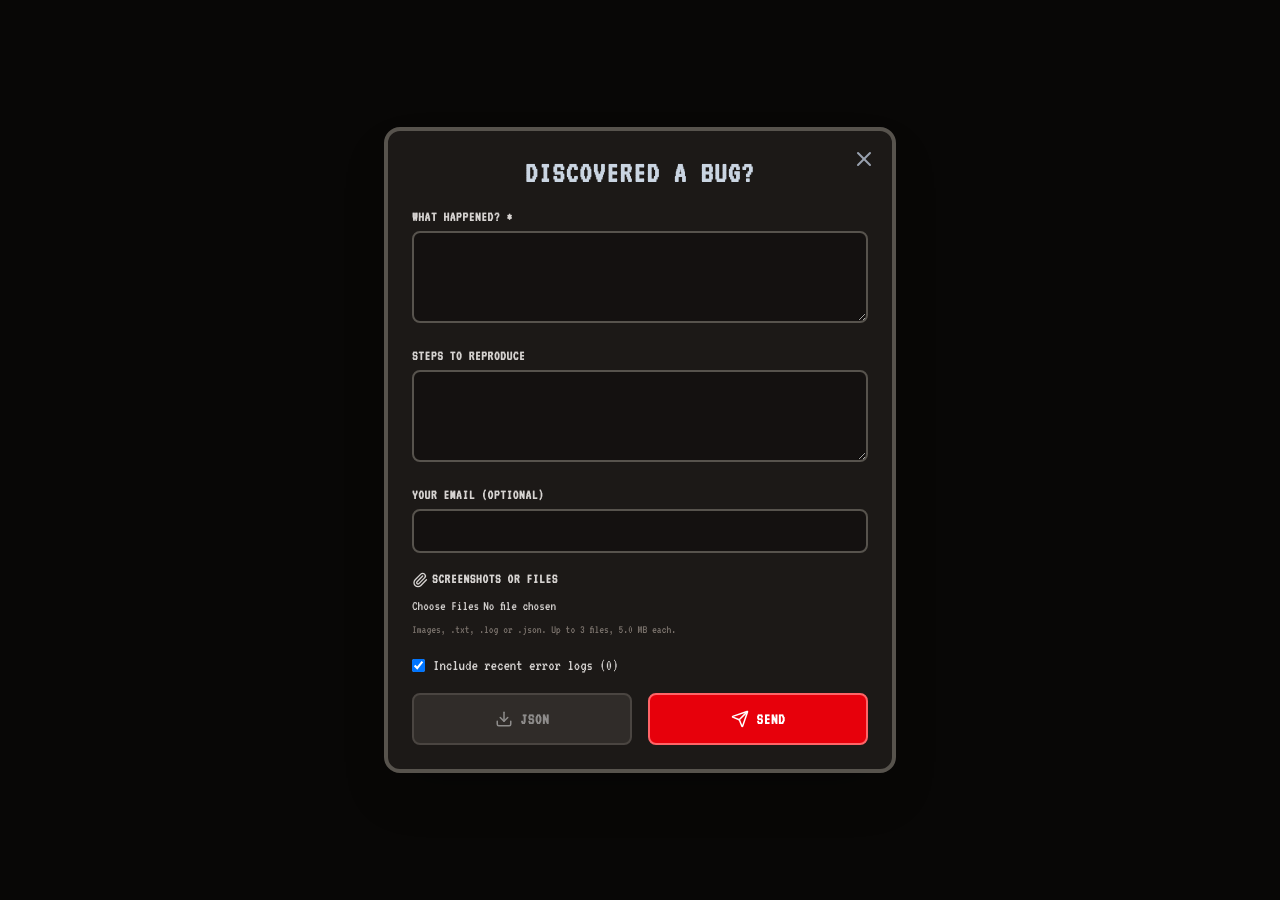
Test: BugReportModal › rejects an invalid reporter email
The image size is (1280, 900).
Type "Boss never dies" into the text box labelled "What happened? *". click: (640, 277)
box: x1=412 y1=231 x2=868 y2=323
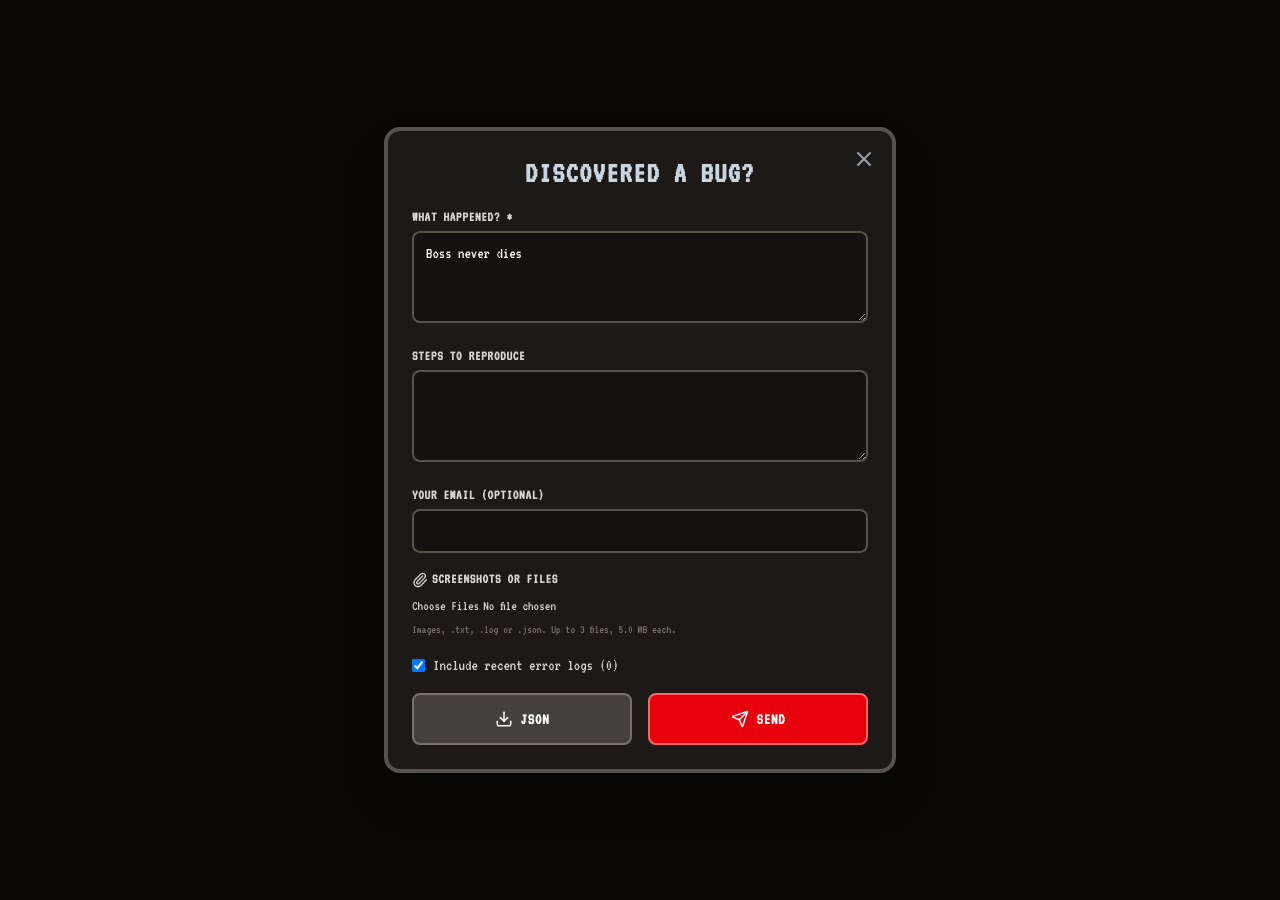
Type "nope" into the field labelled "Your email (optional)". click: (640, 531)
box: x1=412 y1=509 x2=868 y2=553
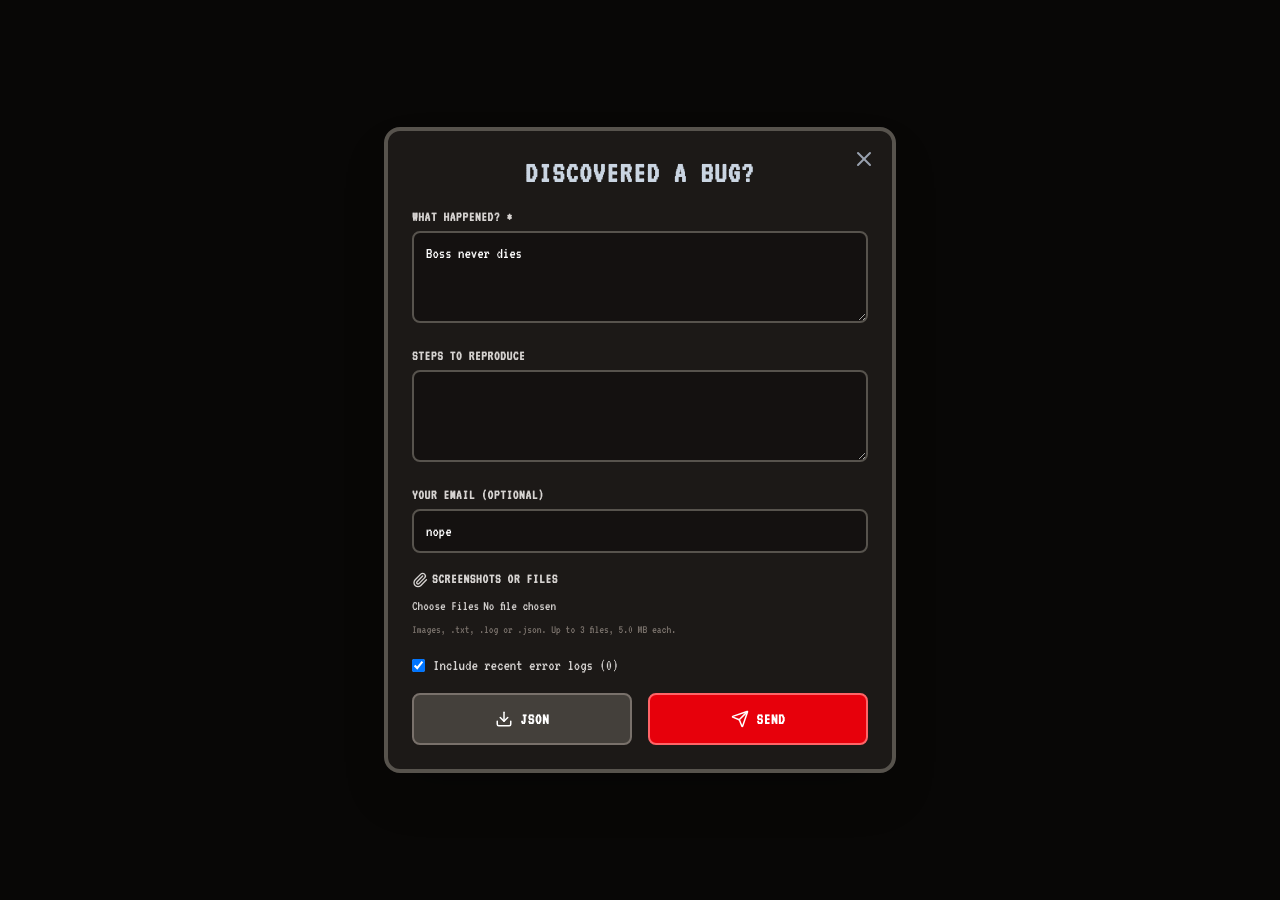
Click the button "Send". click: (758, 719)
box: x1=648 y1=693 x2=868 y2=745
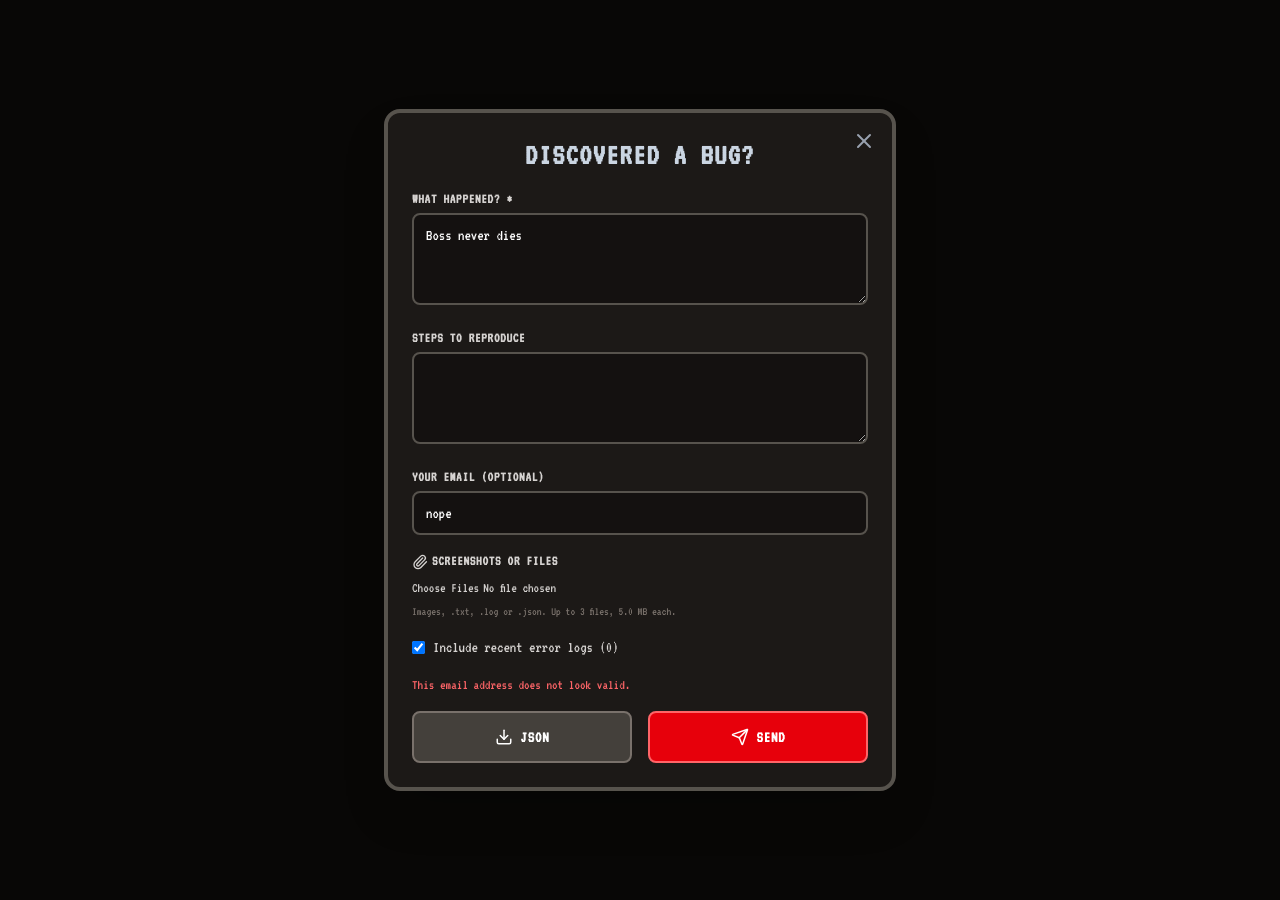
expect the message shows "does not look valid": met, box x1=412 y1=678 x2=630 y2=692
